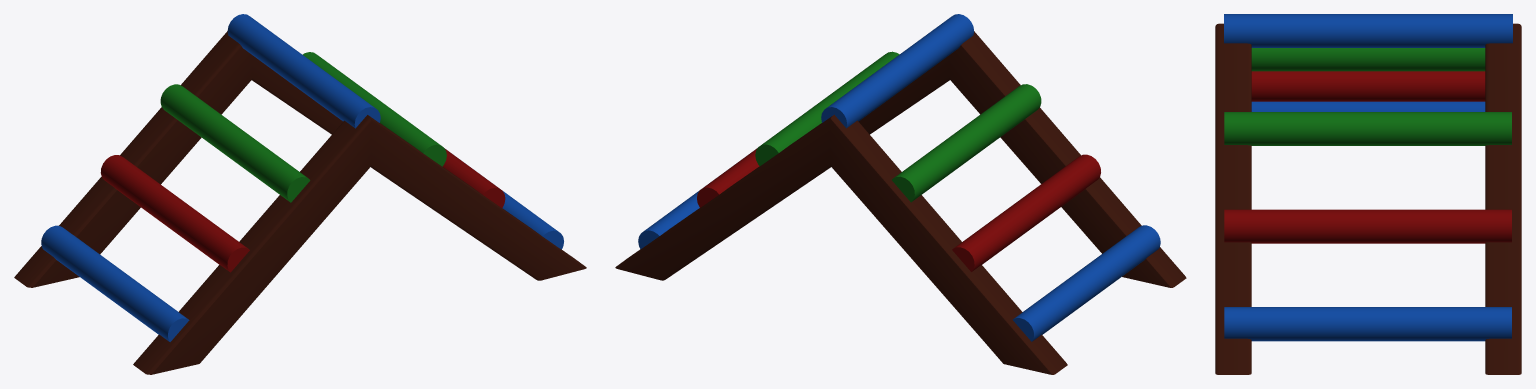
The model's file is ClimbingFrame.FBX.
The picture shows the model from 3 angles, left to right: view 1: azimuth 30°, elevation 25°; view 2: azimuth 150°, elevation 25°; view 3: azimuth 270°, elevation 25°; orthographic projection. The views are drawn at different scales.
Parts seen in each view (by area): view 1: Frame, Cylinder014; view 2: Frame, Cylinder014; view 3: Cylinder014, Frame.
Part boxes in pixels (x1,y1,x2,y2): Frame: (14, 31, 586, 374); Cylinder014: (41, 14, 563, 341); Frame: (615, 31, 1186, 374); Cylinder014: (638, 14, 1160, 341); Cylinder014: (1224, 14, 1512, 341); Frame: (1215, 23, 1521, 374).
Size of the model in its own units: 45 by 23.9 by 20.68.
